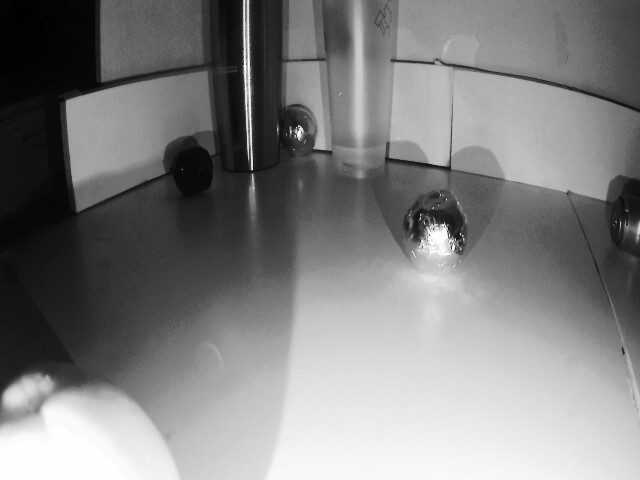black: (163, 143, 212, 194)
silver: (398, 194, 470, 276), (282, 100, 322, 160)
